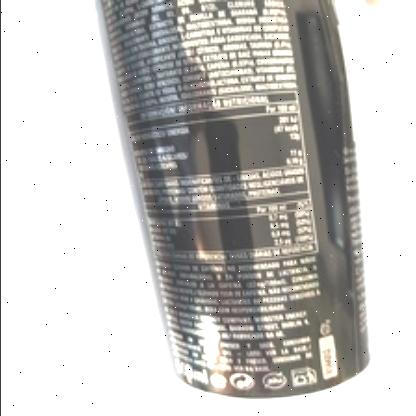Can: (95, 0, 373, 400)
